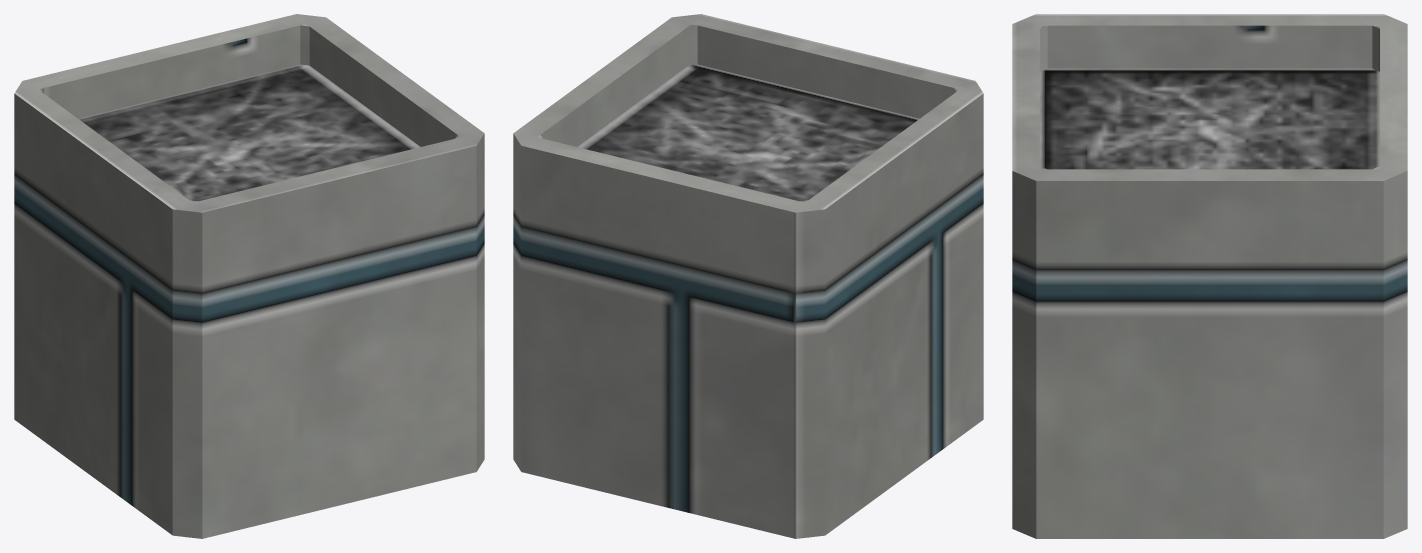
The model's file is Obj_HPPot.FBX.
3 views of the same model, side by side, from view 1: azimuth 30°, elevation 25°; view 2: azimuth 150°, elevation 25°; view 3: azimuth 270°, elevation 25° (orthographic). The views are drawn at different scales.
Parts seen in each view (by area): view 1: HPPot; view 2: HPPot; view 3: HPPot.
Part boxes in pixels (x1,y1,x2,y2): HPPot: (14,14,484,538); HPPot: (513,14,983,538); HPPot: (1012,14,1407,538).
Bounding box in the file's own units: 1 × 1 × 1.
